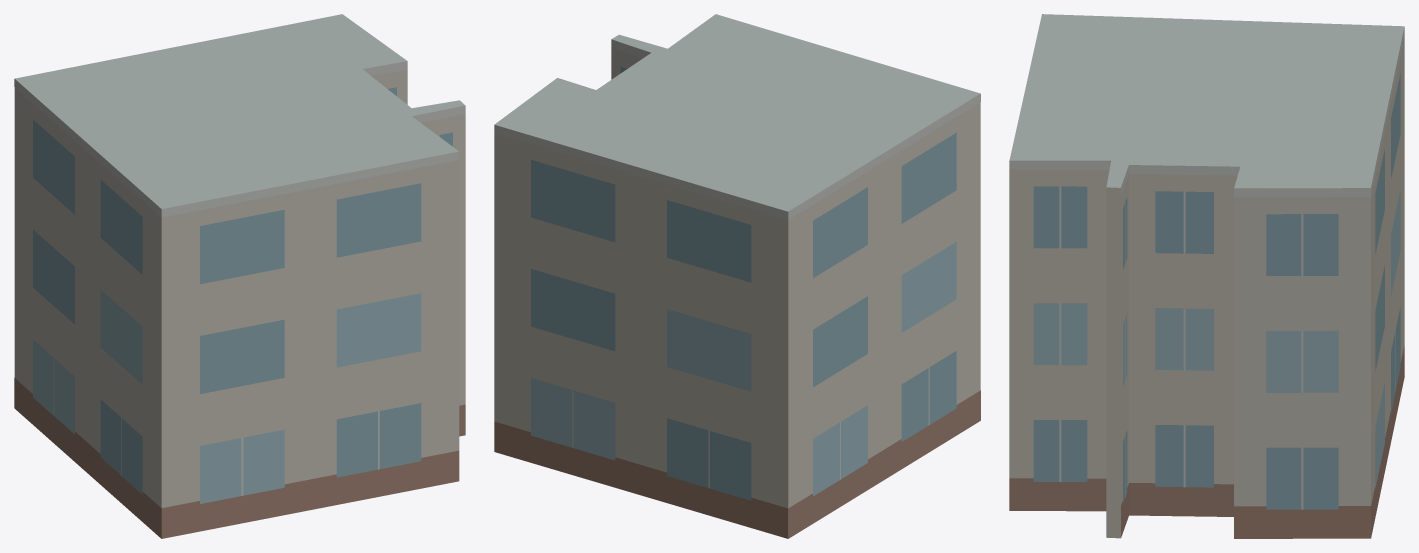
Rendered from survey-upis-32768684.glb.
3 renders of one model, left to right at view 1: azimuth 30°, elevation 25°; view 2: azimuth 150°, elevation 25°; view 3: azimuth 270°, elevation 25°, orthographic. The views are drawn at different scales.
Visible parts, largest first — view 1: survey-upis-32768684.tmp; view 2: survey-upis-32768684.tmp; view 3: survey-upis-32768684.tmp.
Part boxes in pixels (<box>): survey-upis-32768684.tmp: <box>14,14,465,538</box>; survey-upis-32768684.tmp: <box>494,14,980,538</box>; survey-upis-32768684.tmp: <box>1009,14,1404,538</box>.
Bounding box in the file's own units: 10.15 × 9.5 × 9.72.
